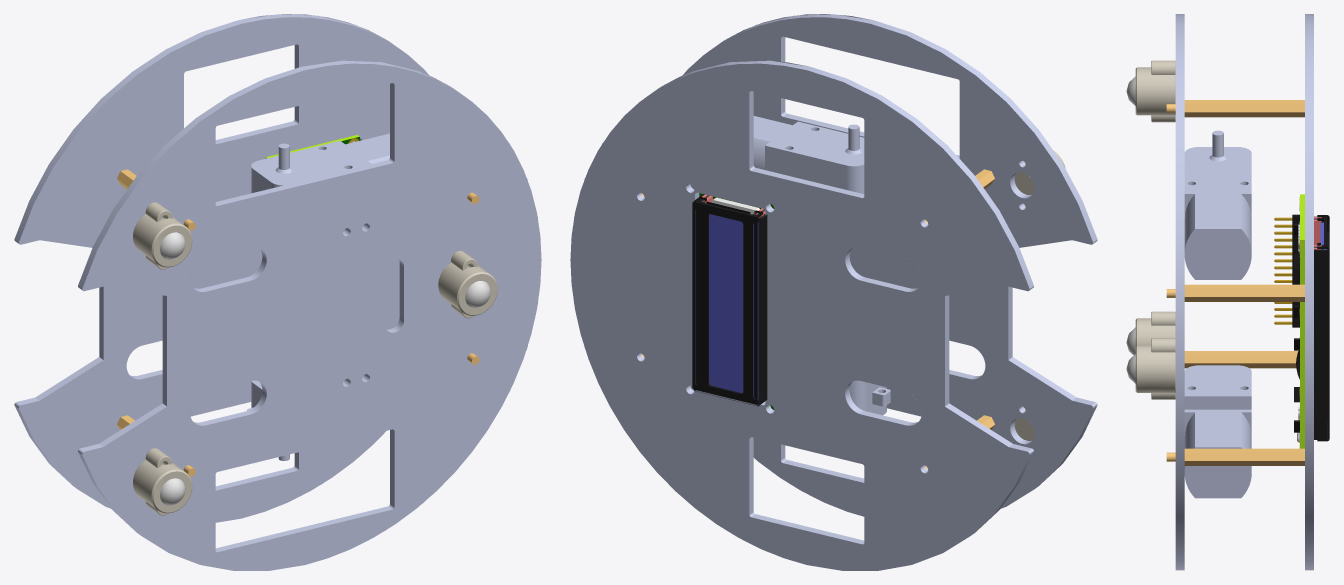
The picture shows the model from 3 angles, left to right: view 1: azimuth 30°, elevation 25°; view 2: azimuth 150°, elevation 25°; view 3: azimuth 270°, elevation 25°; orthographic projection. The views are drawn at different scales.
Visible parts, largest first — view 1: L0.IGS (×6); view 2: L0.IGS (×5); view 3: L0.IGS (×12).
Boxes of the visible parts, x1,y1,x2,y2 form: L0.IGS (×6): [14, 14, 541, 570]; L0.IGS (×5): [570, 14, 1097, 570]; L0.IGS (×12): [1126, 14, 1329, 570].
Size of the model in its own units: 0.1797 by 0.185 by 0.0674.
